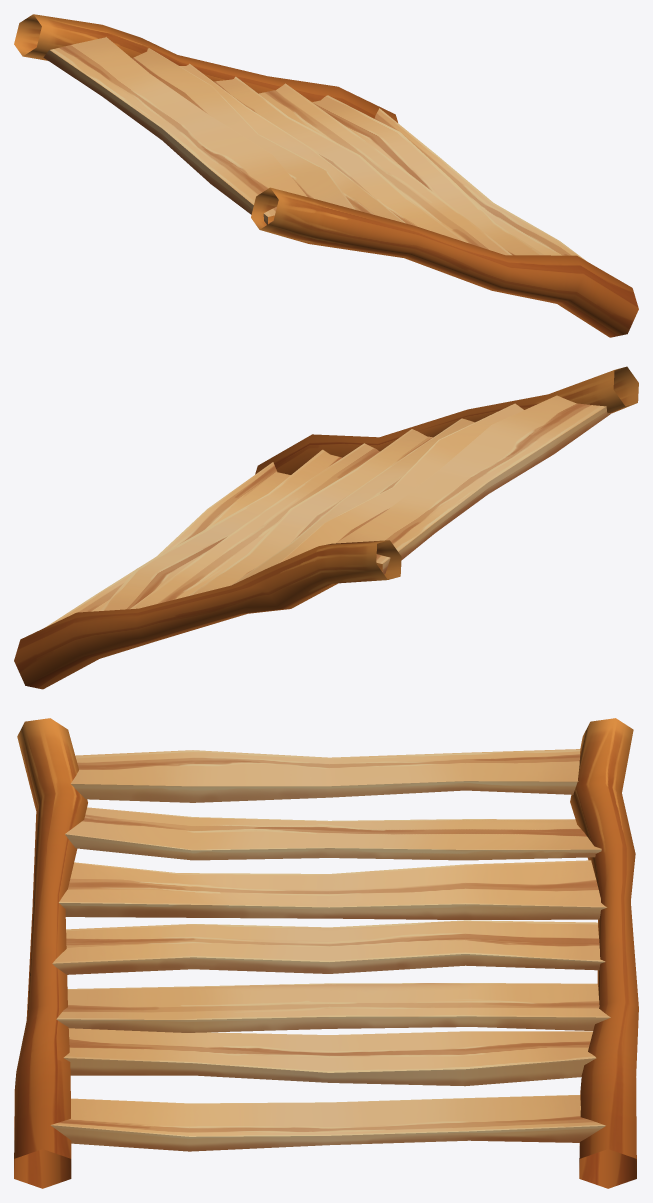
Rendered from port_stair.fbx.
3 views of the same model, one above another, from view 1: azimuth 30°, elevation 25°; view 2: azimuth 150°, elevation 25°; view 3: azimuth 270°, elevation 25° (orthographic). The views are drawn at different scales.
Parts seen in each view (by area): view 1: port_stairs; view 2: port_stairs; view 3: port_stairs.
Boxes of the visible parts, x1,y1,x2,y2 form: port_stairs: [14, 14, 638, 337]; port_stairs: [14, 366, 638, 689]; port_stairs: [14, 718, 638, 1188].
Bounding box in the file's own units: 1130 × 660 × 1362.
